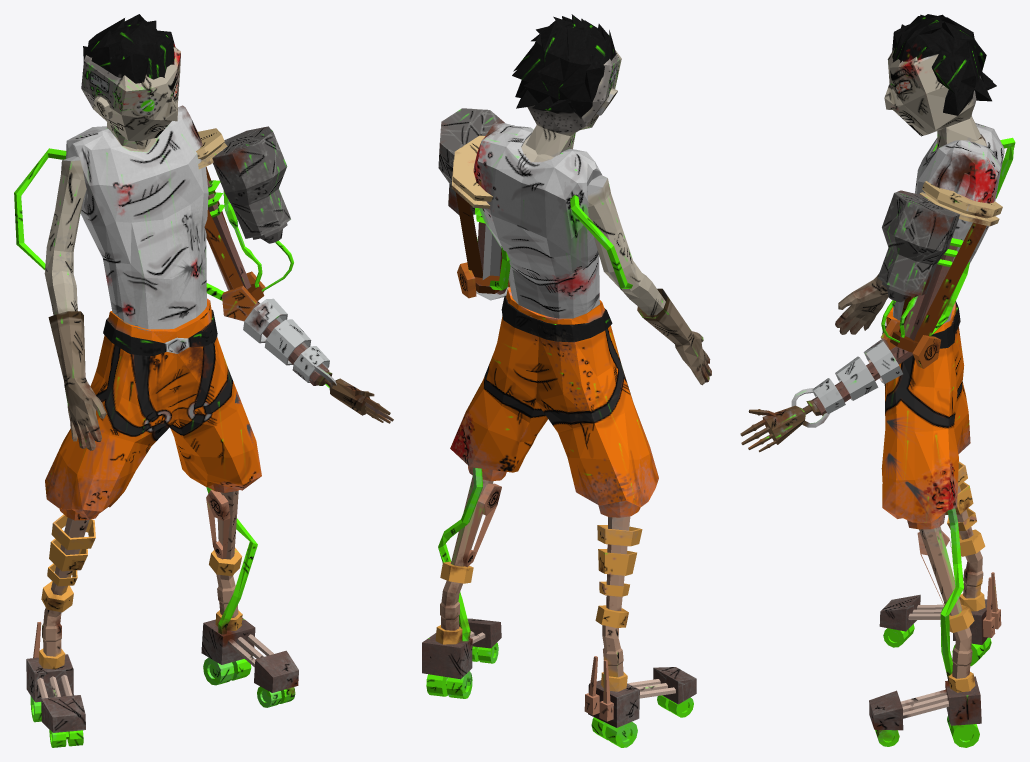
The model's file is CyborgFINALAnimation_000008.obj.
3 renders of one model, left to right at view 1: azimuth 30°, elevation 25°; view 2: azimuth 150°, elevation 25°; view 3: azimuth 270°, elevation 25°, orthographic. The views are drawn at different scales.
Parts seen in each view (by area): view 1: CyborgMesh_Cube.002; view 2: CyborgMesh_Cube.002; view 3: CyborgMesh_Cube.002.
Boxes of the visible parts, x1,y1,x2,y2 form: CyborgMesh_Cube.002: (14, 14, 393, 747); CyborgMesh_Cube.002: (422, 14, 711, 747); CyborgMesh_Cube.002: (740, 14, 1015, 747).
Size of the model in its own units: 3.8 by 9.59 by 3.55.
